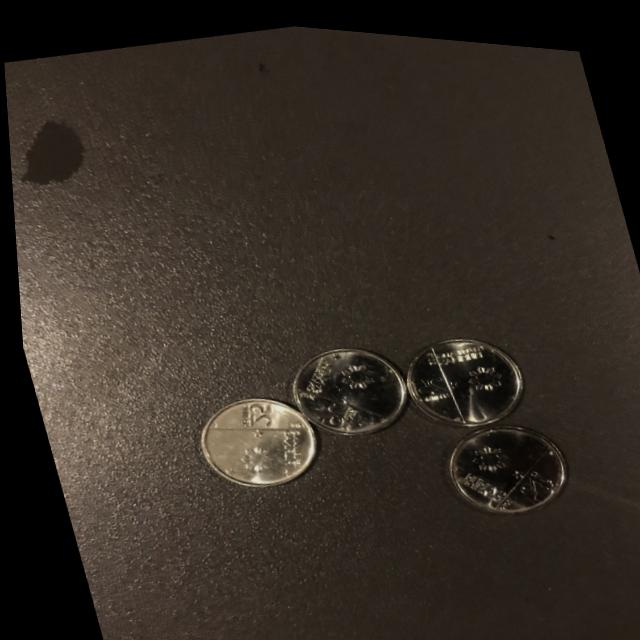25Cent_New_Front: (379, 319, 521, 429), (283, 321, 395, 432), (435, 409, 558, 508), (190, 389, 306, 492)
